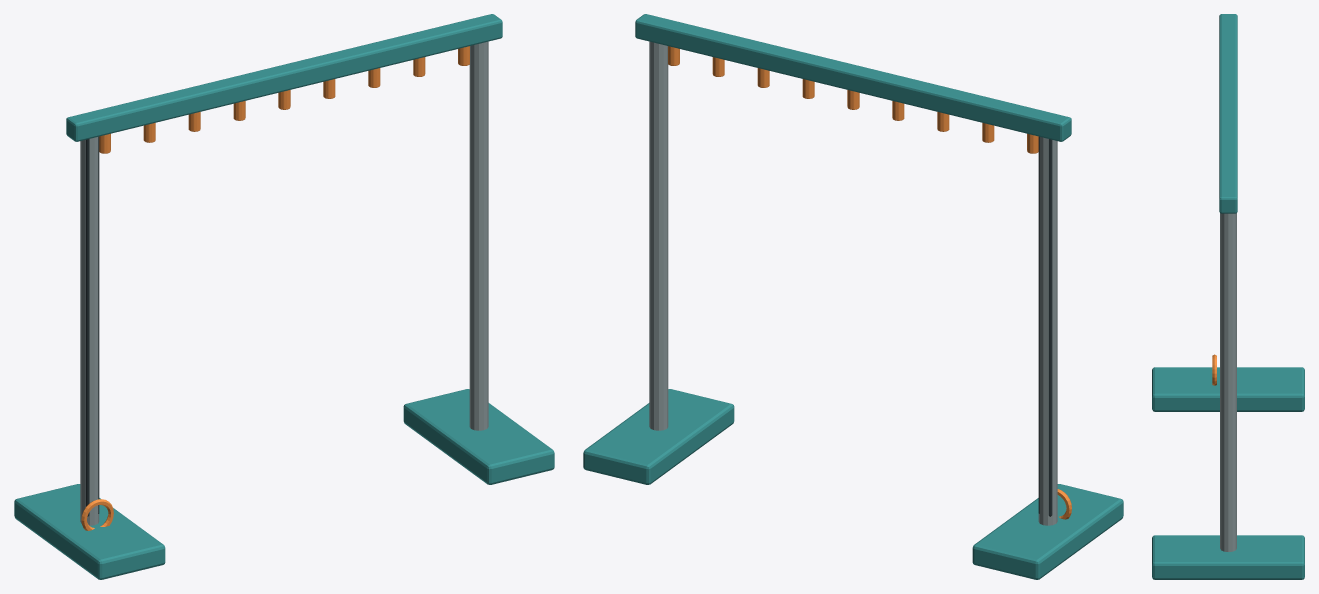
File: S080_rain_bar_rig.glb
The picture shows the model from 3 angles, left to right: view 1: azimuth 30°, elevation 25°; view 2: azimuth 150°, elevation 25°; view 3: azimuth 270°, elevation 25°; orthographic projection. The views are drawn at different scales.
Parts seen in each view (by area): view 1: rain_header, rain_foot.001, rain_stand.001, rain_foot, rain_stand, feed_pipe; view 2: rain_header, rain_foot.001, rain_stand.001, rain_foot, rain_stand, feed_pipe; view 3: rain_foot.001, rain_foot, rain_stand.001, rain_header.
Boxes of the visible parts, left/top/right/bottom form: rain_header: left=66, top=14, right=502, bottom=141; rain_foot.001: left=403, top=389, right=554, bottom=484; rain_stand.001: left=469, top=41, right=488, bottom=430; rain_foot: left=14, top=484, right=165, bottom=579; rain_stand: left=80, top=137, right=99, bottom=525; feed_pipe: left=85, top=136, right=99, bottom=516; rain_header: left=635, top=14, right=1071, bottom=141; rain_foot.001: left=583, top=389, right=734, bottom=484; rain_stand.001: left=649, top=41, right=668, bottom=430; rain_foot: left=972, top=484, right=1123, bottom=579; rain_stand: left=1038, top=137, right=1057, bottom=525; feed_pipe: left=1038, top=136, right=1052, bottom=516; rain_foot.001: left=1152, top=535, right=1304, bottom=579; rain_foot: left=1152, top=367, right=1304, bottom=411; rain_stand.001: left=1220, top=213, right=1236, bottom=551; rain_header: left=1219, top=14, right=1237, bottom=213.
Bounding box in the file's own units: 3.05 × 2.72 × 1.
